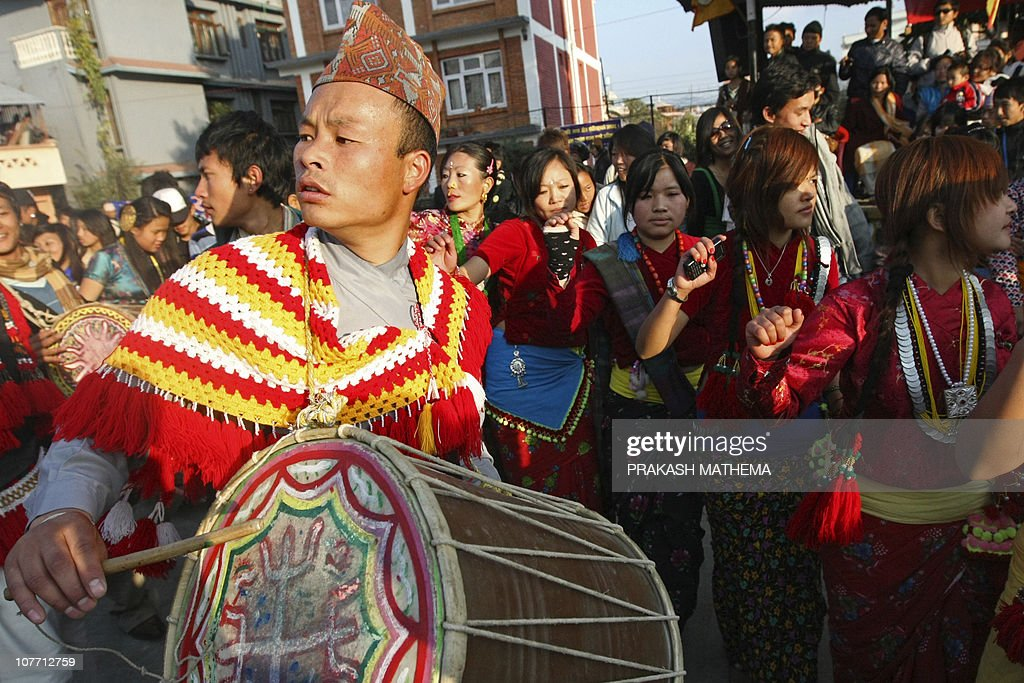human: (1, 2, 505, 683), (741, 130, 1024, 683), (629, 123, 851, 683), (534, 147, 726, 683), (420, 144, 608, 507)
